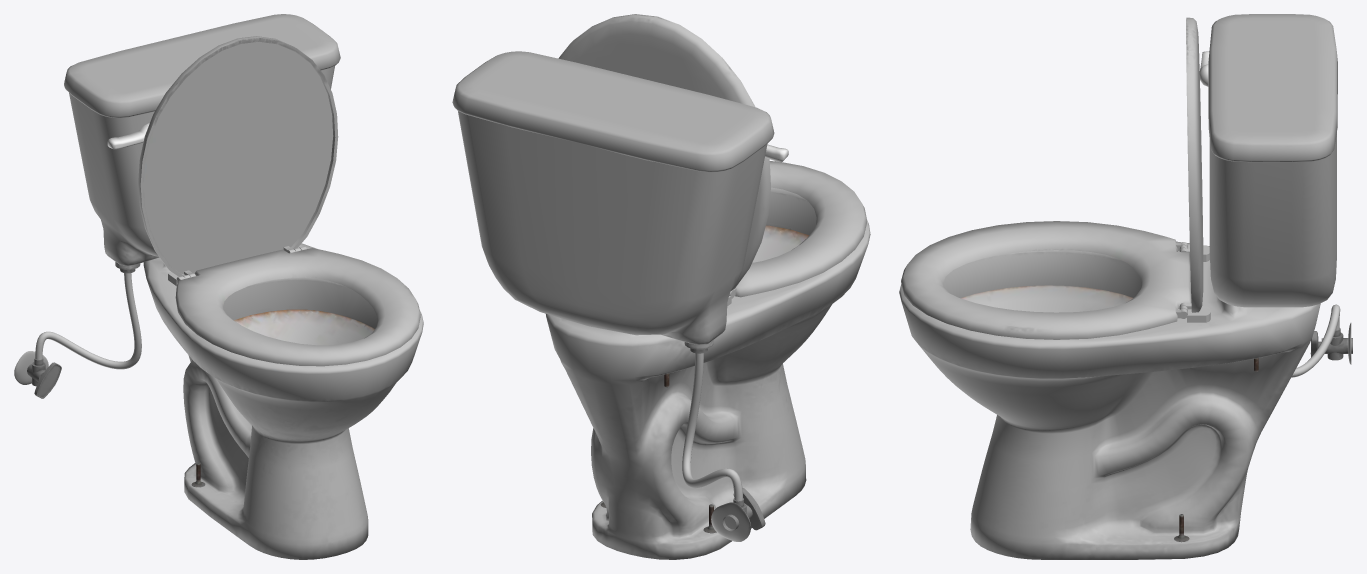
Rendered from toilet-transformed.glb.
3 renders of one model, left to right at view 1: azimuth 30°, elevation 25°; view 2: azimuth 150°, elevation 25°; view 3: azimuth 270°, elevation 25°, orthographic. The views are drawn at different scales.
Parts seen in each view (by area): view 1: Toilet; view 2: Toilet; view 3: Toilet.
Boxes of the visible parts, box(x1,y1,x2,y2) form: Toilet: box(14, 14, 423, 559); Toilet: box(452, 14, 870, 559); Toilet: box(899, 14, 1352, 559).
Bounding box in the file's own units: 0.4783 × 0.7435 × 0.607.
1 material, 1 textured.
